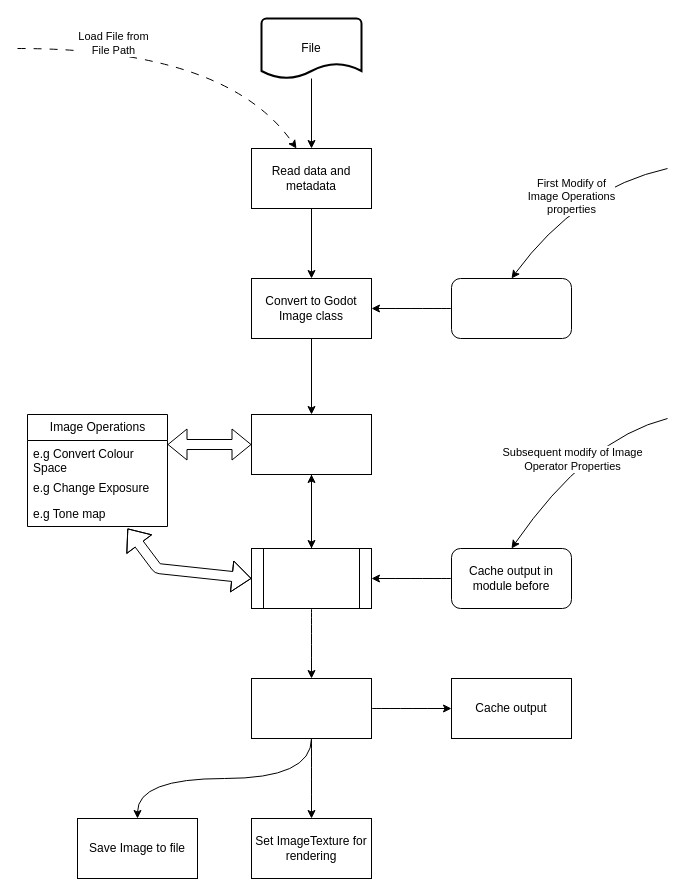
Image size: 685x896. Some labels were removed from this diagram. Each missing label, with the box of its shape:
Build List of Image Operation Modules: (250, 414, 372, 474)
Cache output if Active: (450, 278, 572, 338)
Convert Image from float32 to int8 for display: (250, 678, 372, 738)
Run Operations in order: (250, 548, 372, 608)
